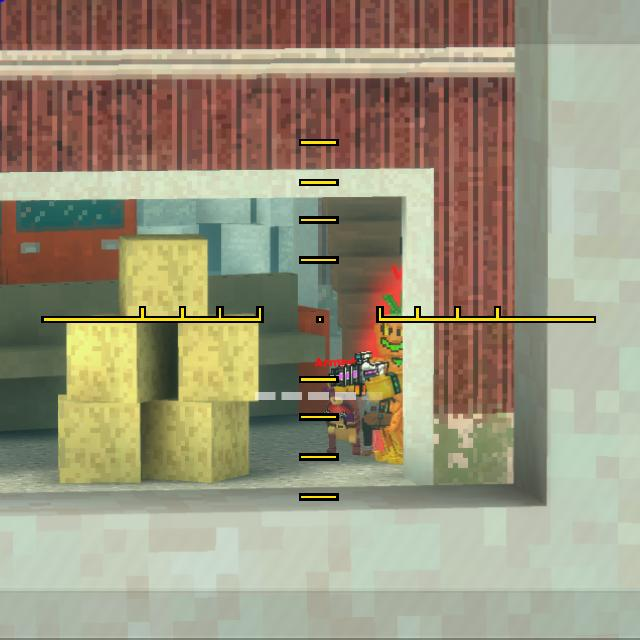Enemy: (364, 308, 400, 454)
